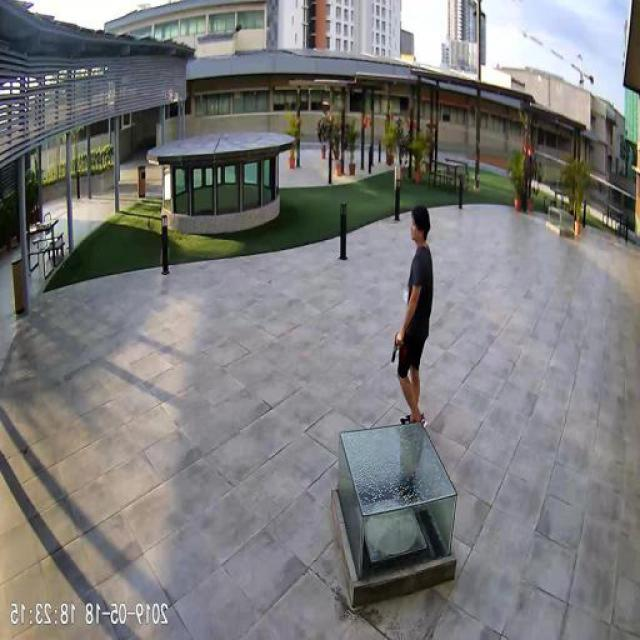weapon: (390, 330, 408, 366)
